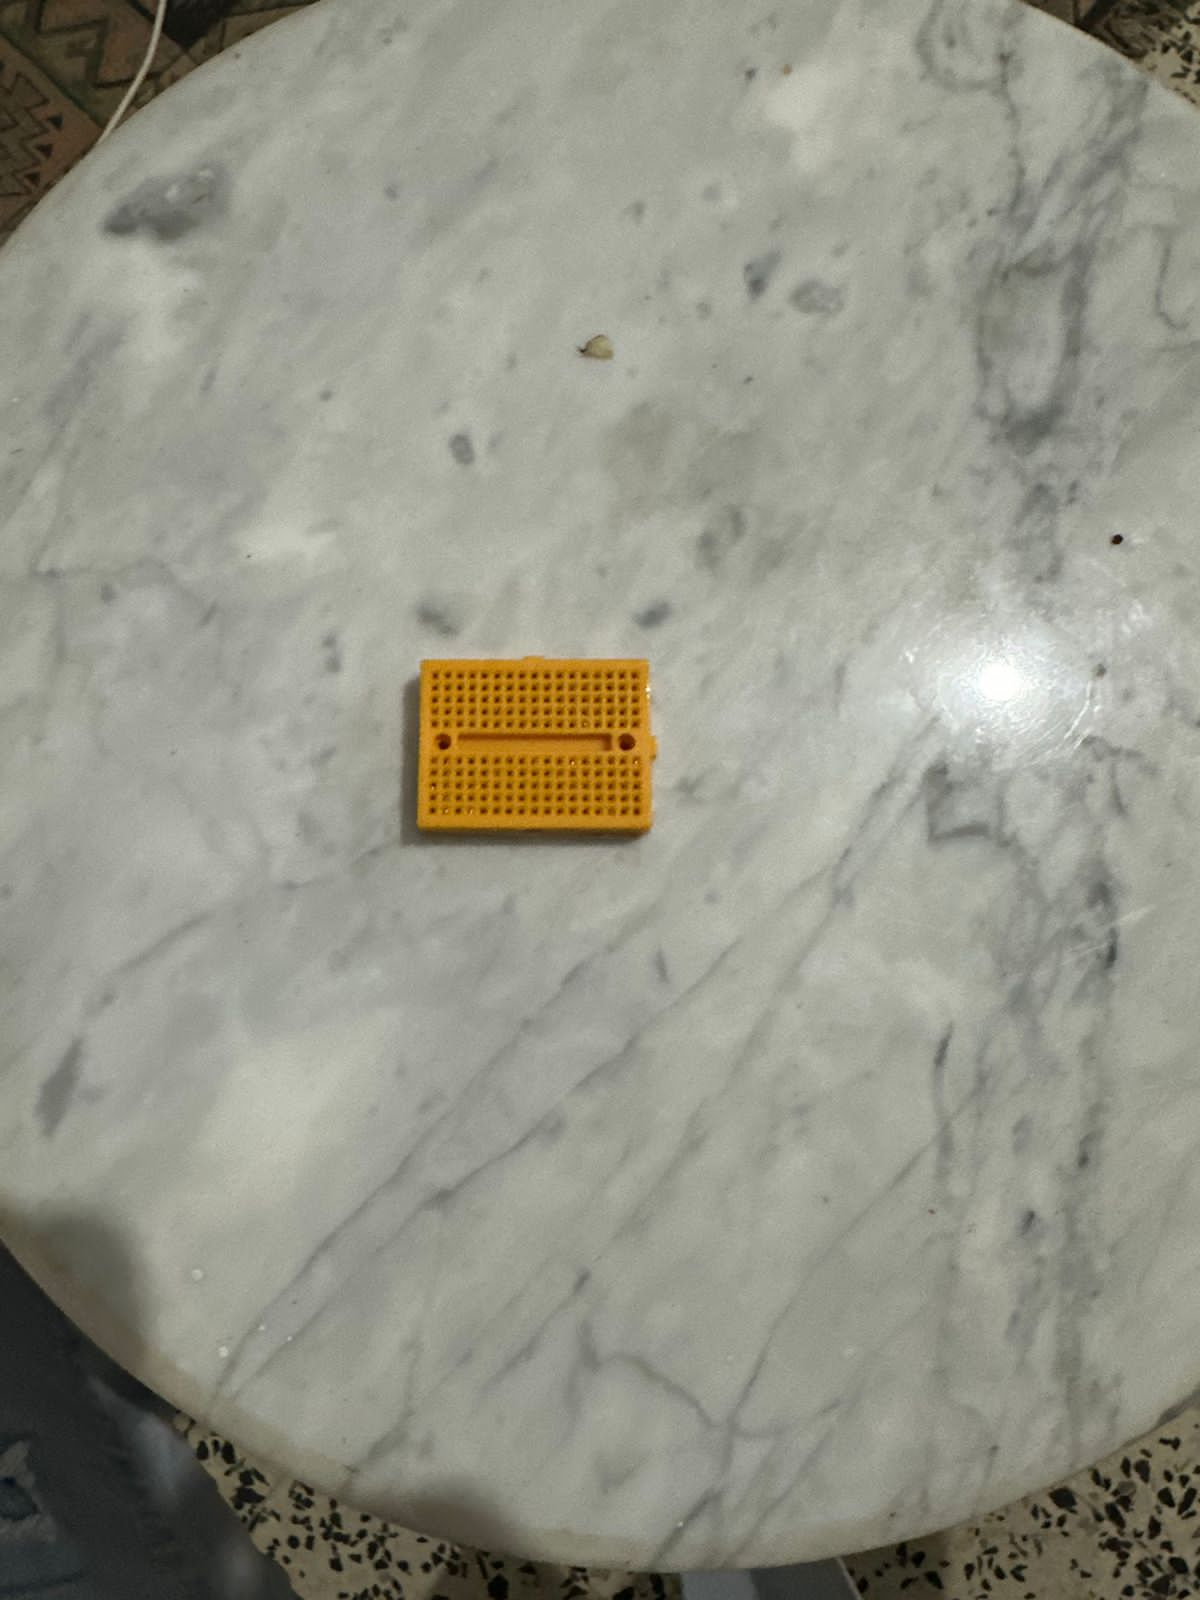breadboard: (410, 648, 658, 840)
